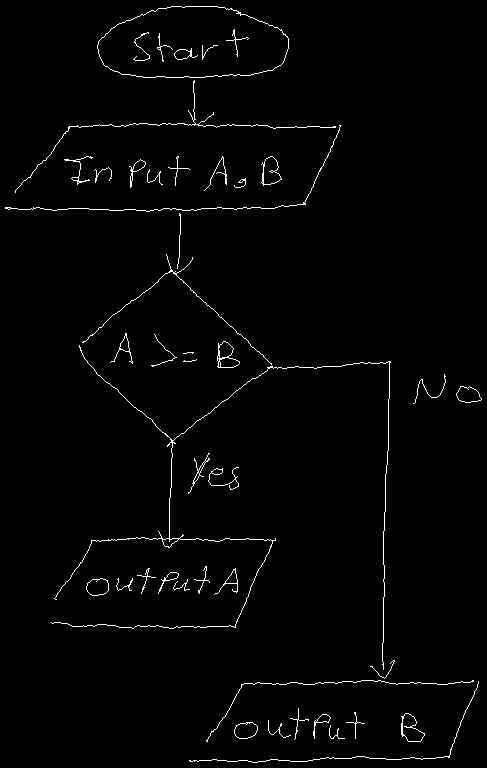arrow: (267, 361, 394, 678), (158, 439, 183, 547), (166, 213, 192, 273), (188, 80, 213, 124)
data: (5, 123, 340, 211), (189, 680, 478, 762), (51, 537, 275, 628)
decision: (79, 270, 272, 446)
terminator: (97, 6, 288, 77)
text: (64, 156, 281, 190), (234, 708, 424, 741), (110, 333, 239, 367), (86, 566, 237, 595), (133, 29, 248, 61), (188, 453, 238, 493), (413, 374, 481, 403)
